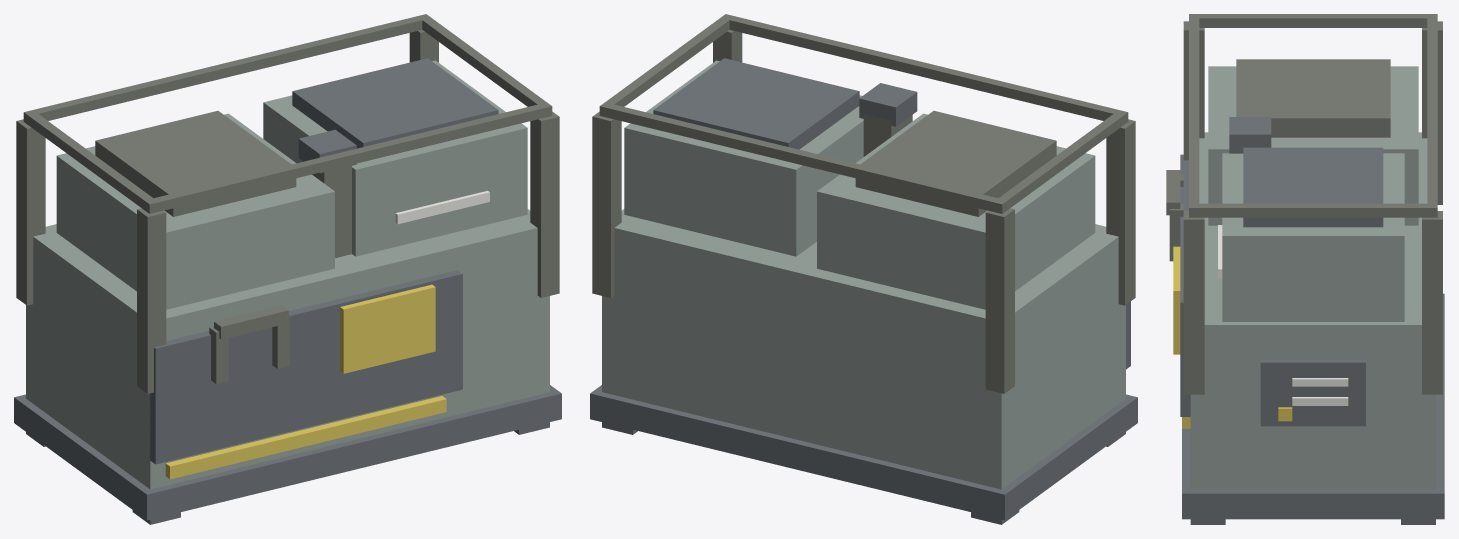
Rendered from industrial_generator.glb.
3 renders of one model, left to right at view 1: azimuth 30°, elevation 25°; view 2: azimuth 150°, elevation 25°; view 3: azimuth 270°, elevation 25°, orthographic.
Visible parts, largest first — view 1: IndustrialGenerator; view 2: IndustrialGenerator; view 3: IndustrialGenerator.
Part boxes in pixels (x1,y1,x2,y2): IndustrialGenerator: (14,14,561,524); IndustrialGenerator: (590,14,1137,524); IndustrialGenerator: (1166,14,1444,524).
Size of the model in its own units: 1.36 by 1 by 0.795.
